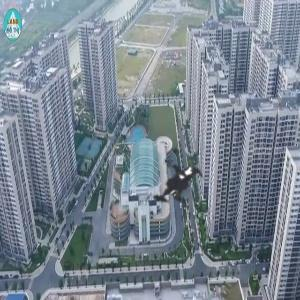drone: (92, 89, 274, 271)
